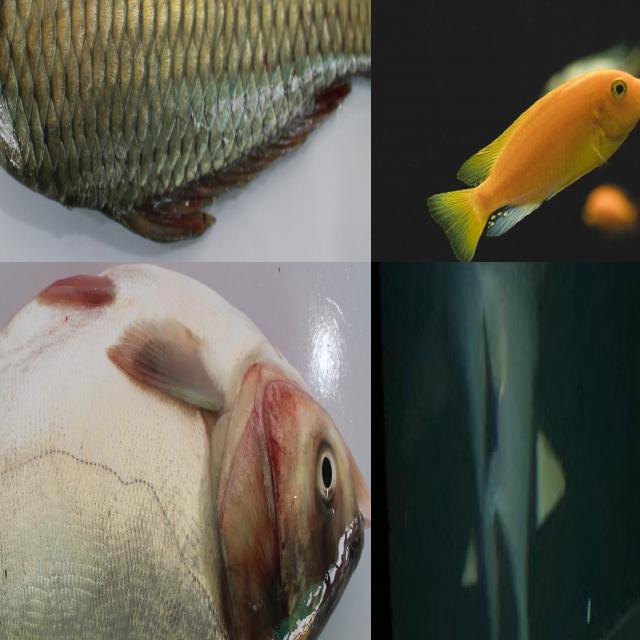fish: (0, 262, 371, 640), (0, 0, 371, 262), (391, 262, 640, 640), (371, 0, 640, 262)
